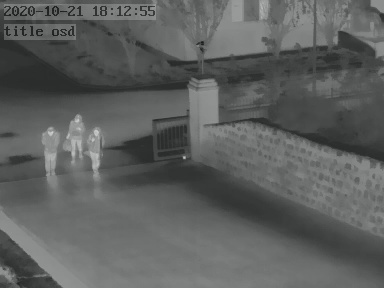person: (41, 123, 61, 179), (65, 114, 87, 163), (85, 121, 102, 173)
